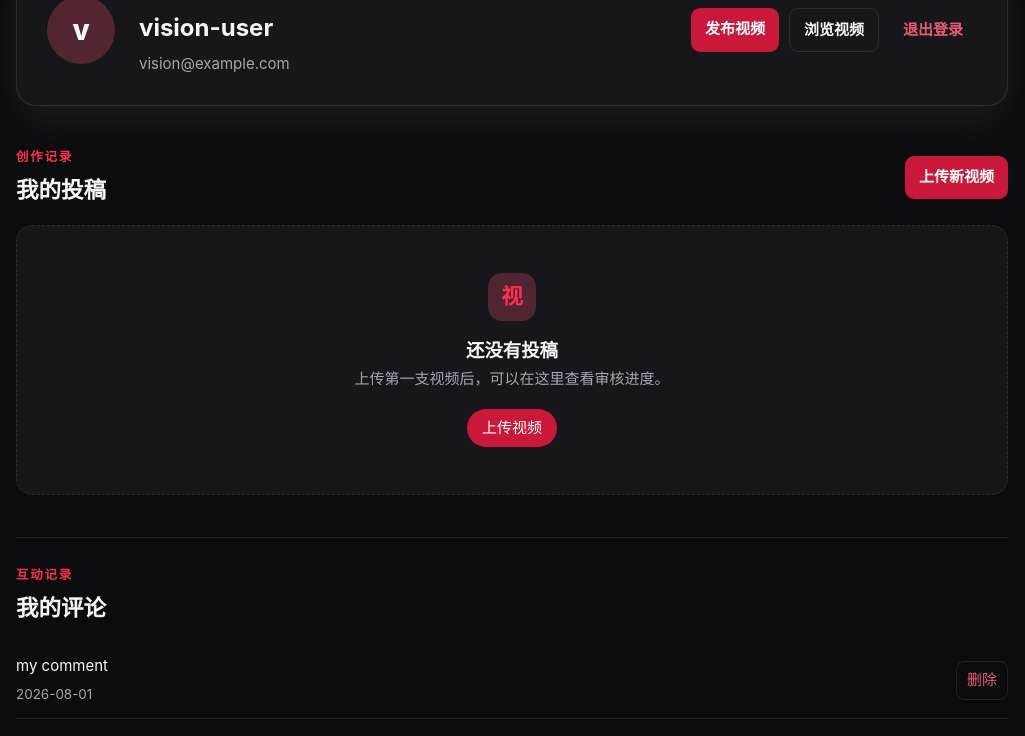
Test: 个人中心退出登录 › removes a personal comment after anonymizing it
The width and height of the screenshot is (1025, 736).
(page scrolled)
What coordinates should you click on to do the following:
click the button "删除"
I would click on:
 (982, 680)
Its box is [956,661,1008,700].
(page scrolled)
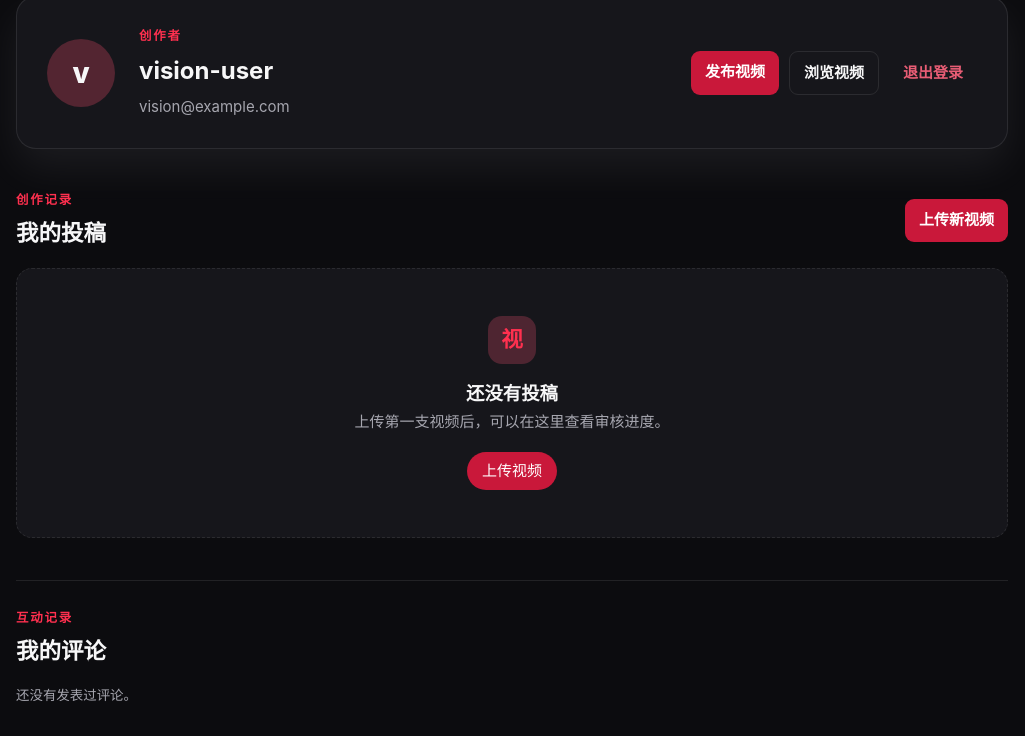
expect the text "my comment" is gone: met
